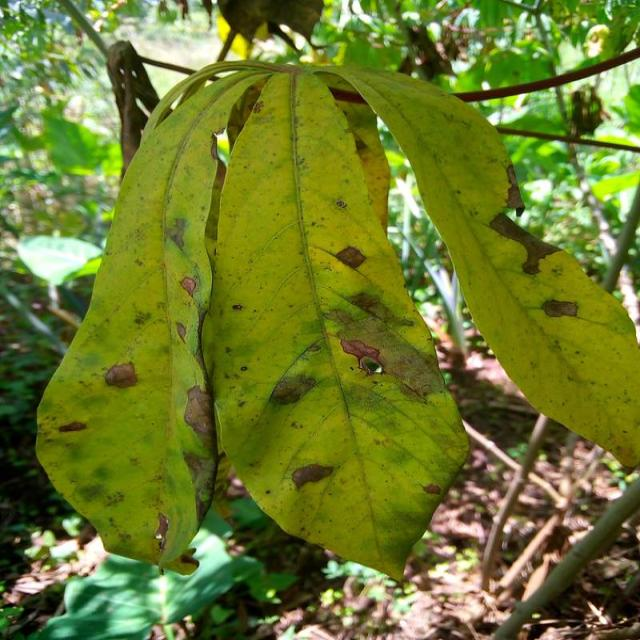cassava leaf: (32, 56, 638, 582), (200, 66, 470, 583), (309, 61, 638, 469), (34, 61, 270, 576)
